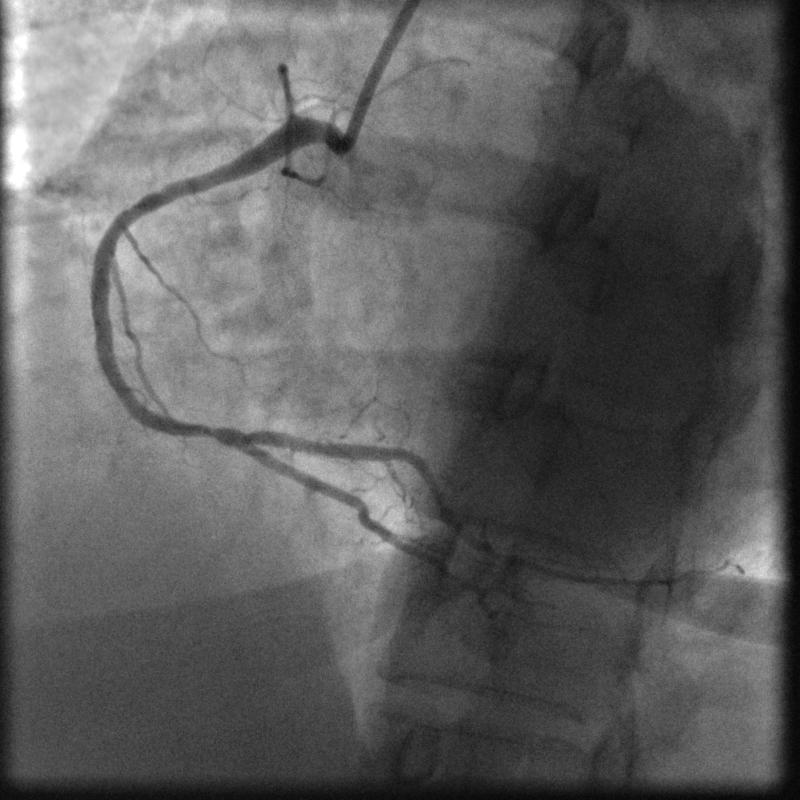Stenosis: (186, 414, 240, 450)
